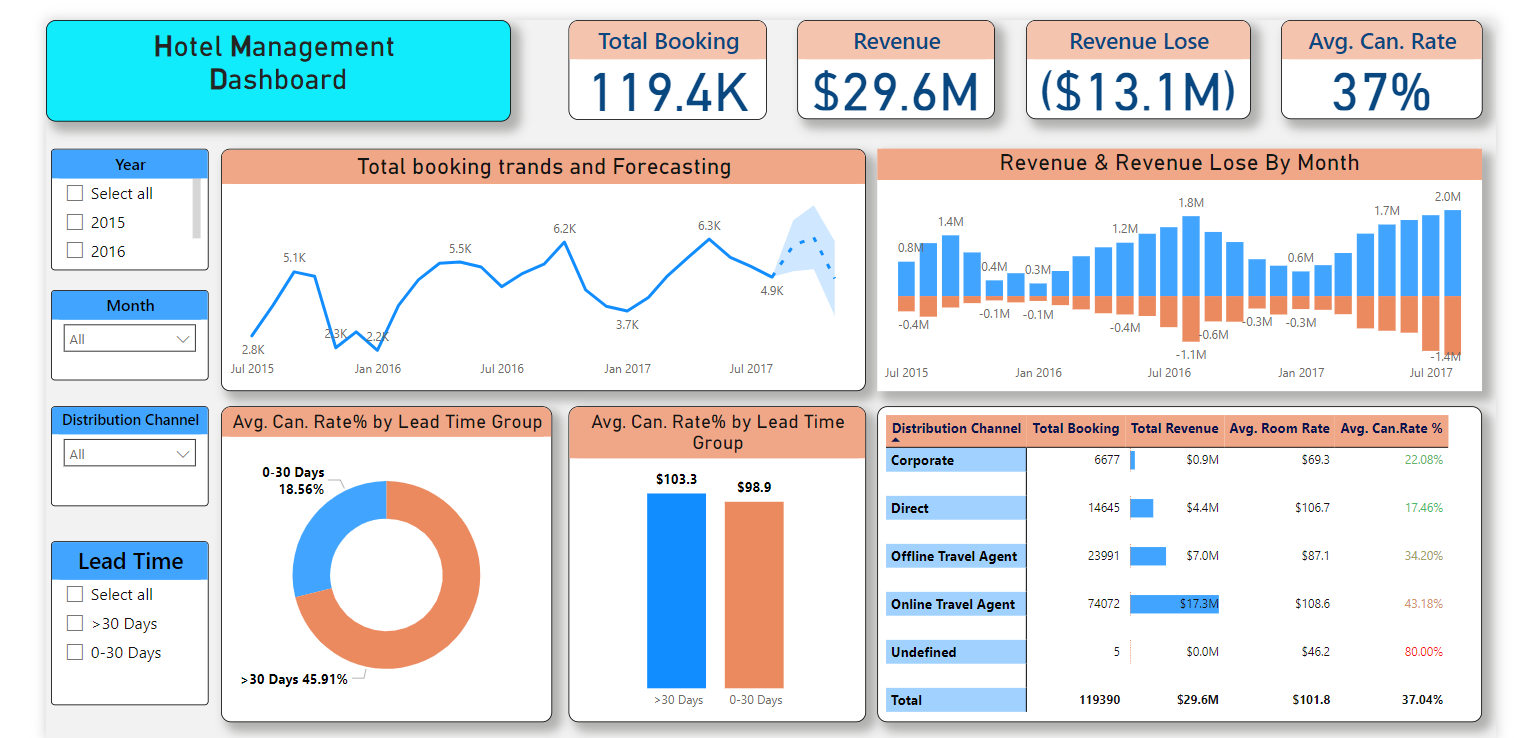

The page's visual inventory and layout, read from the dashboard file:
{"tool":"powerbi","page":{"name":"Page 3","canvas":[1450,720],"ordinal":0},"visuals":[{"type":"textbox","box":[0,0,465,101.2],"z":0},{"type":"card","title":"Total Booking","fields":{"Values":["_Measure.Total Booking"]},"box":[522.5,0,198.8,100],"z":1000},{"type":"card","title":"Revenue","fields":{"Values":["_Measure.Total Revenue"]},"box":[751.9,0,197.5,99.4],"z":2000},{"type":"card","title":"Revenue Lose","fields":{"Values":["_Measure.Total Revenue Lose"]},"box":[980,0,224.5,99.4],"z":3000},{"type":"card","title":"Avg. Can. Rate","fields":{"Values":["_Measure.Avg. Cancellation Rate %"]},"box":[1235.2,0,201.2,99.4],"z":4000},{"type":"lineChart","title":"Total booking trands and Forecasting","fields":{"Category":["Data.Year","Data.Quarter","Data.Start of Month"],"Y":["_Measure.Total Booking"]},"box":[175,128.8,645,242.5],"z":5000},{"type":"donutChart","title":"Avg. Can. Rate% by Lead Time Group","fields":{"Y":["_Measure.Avg. Cancellation Rate %"],"Category":["Data.Lead Time Group"]},"box":[175.2,386.6,331.2,316.2],"z":6000},{"type":"clusteredColumnChart","title":"Revenue & Revenue Lose By Month","fields":{"Category":["Data.Year","Data.Quarter","Data.Start of Month"],"Y":["Sum(Data.Revenue)","Sum(Data.Revenue Loss)"]},"box":[831.2,128.8,605,242.5],"z":7000},{"type":"clusteredColumnChart","title":"Avg. Can. Rate% by Lead Time Group","fields":{"Category":["Data.Lead Time Group"],"Y":["_Measure.Avg. Room Rate"]},"box":[522.7,386.6,297.5,316.2],"z":8000},{"type":"pivotTable","fields":{"Rows":["Data.Distribution Channel"],"Values":["_Measure.Total Booking","_Measure.Total Revenue","_Measure.Avg. Room Rate","_Measure.Avg. Cancellation Rate %"]},"box":[831.5,386.6,605,316.2],"z":9000},{"type":"slicer","title":"Year","fields":{"Values":["Data.Year"]},"box":[5,128.8,157.5,121.2],"z":10000},{"type":"slicer","title":"Month","fields":{"Values":["Data.Month"]},"box":[5,270,157.5,90],"z":11000},{"type":"slicer","title":"Distribution Channel","fields":{"Values":["Data.Distribution Channel"]},"box":[5,386.2,157.5,100],"z":12000},{"type":"slicer","title":"Lead Time","fields":{"Values":["Data.Lead Time Group"]},"box":[5,521.2,157.5,163.8],"z":13000}]}

Visuals, with their boxes in screenshot pixels (x1, y1, x2, y2):
textbox: detection(36, 12, 506, 114)
"Total Booking" card: detection(564, 12, 766, 113)
"Revenue" card: detection(797, 12, 996, 113)
"Revenue Lose" card: detection(1027, 12, 1254, 113)
"Avg. Can. Rate" card: detection(1285, 12, 1489, 113)
"Total booking trands and Forecasting" lineChart: detection(213, 142, 865, 388)
"Avg. Can. Rate% by Lead Time Group" donutChart: detection(213, 403, 548, 723)
"Revenue & Revenue Lose By Month" clusteredColumnChart: detection(877, 142, 1489, 388)
"Avg. Can. Rate% by Lead Time Group" clusteredColumnChart: detection(565, 403, 866, 723)
pivotTable - Data.Distribution Channel x _Measure.Total Booking: detection(877, 403, 1489, 723)
"Year" slicer: detection(41, 142, 200, 265)
"Month" slicer: detection(41, 285, 200, 376)
"Distribution Channel" slicer: detection(41, 403, 200, 504)
"Lead Time" slicer: detection(41, 539, 200, 705)
